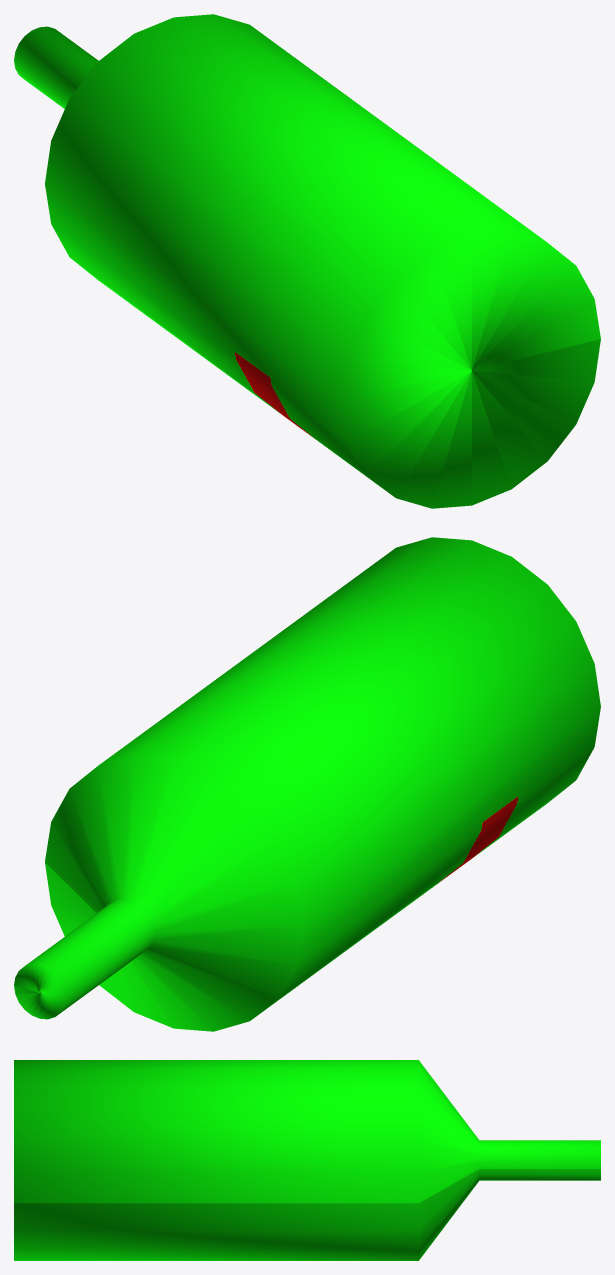
Rendered from pinard_col.fbx.
3 renders of one model, top to bottom at view 1: azimuth 30°, elevation 25°; view 2: azimuth 150°, elevation 25°; view 3: azimuth 270°, elevation 25°, orthographic. The views are drawn at different scales.
Parts seen in each view (by area): view 1: Plane; view 2: Plane; view 3: Plane.
Part boxes in pixels (<box>): Plane: <box>14,14,600,508</box>; Plane: <box>14,537,600,1031</box>; Plane: <box>14,1060,600,1260</box>.
Bounding box in the file's own units: 1 × 1 × 2.9.
1 material, 1 textured.
